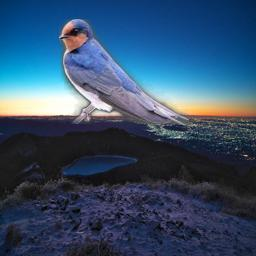Swallow: (59, 19, 189, 124)
